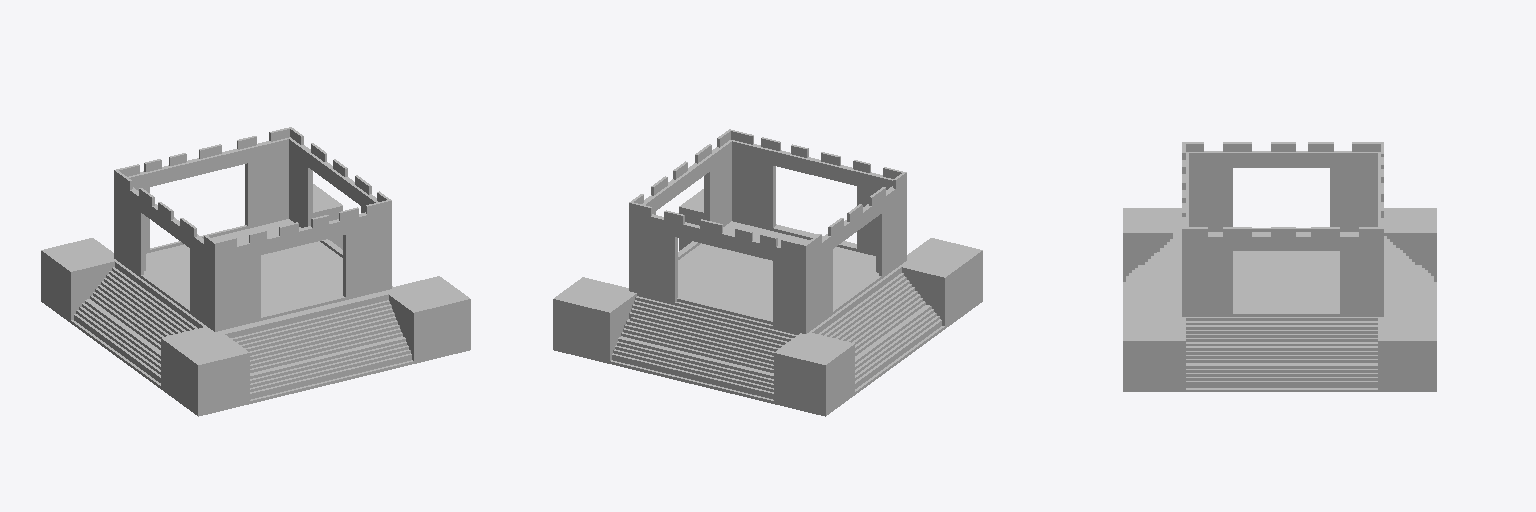
The model's file is castle.obj.
3 renders of one model, left to right at view 1: azimuth 30°, elevation 25°; view 2: azimuth 150°, elevation 25°; view 3: azimuth 270°, elevation 25°, orthographic.
Parts seen in each view (by area): view 1: object 1; view 2: object 1; view 3: object 1.
Part boxes in pixels (left/top/right/bottom): object 1: left=41, top=127, right=470, bottom=416; object 1: left=553, top=129, right=982, bottom=416; object 1: left=1123, top=142, right=1436, bottom=391.
Bounding box in the file's own units: 10 × 4.9 × 10.